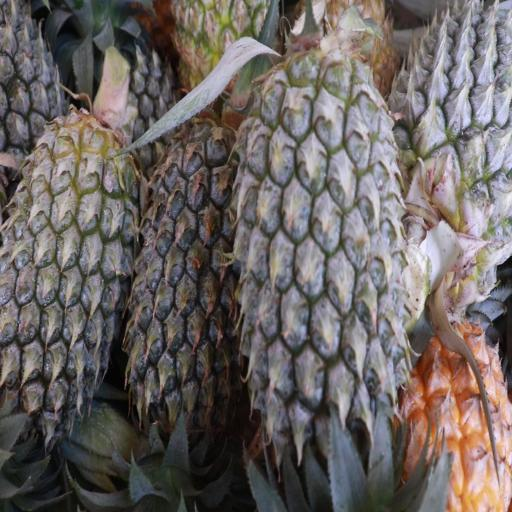------------------------------: (173, 0, 270, 101)
